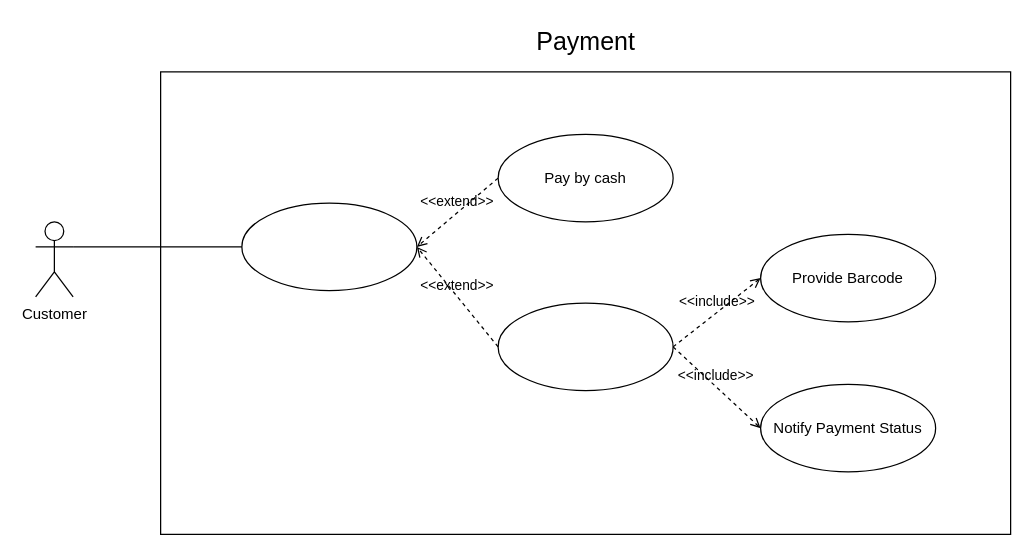
Some shapes in this 1033 by 556 pixel diagram are drawn without their labels. Each missing label, with the centre of its shape:
"Pay with MOMO" belongs at (585,346).
"Submit Payment" belongs at (329,246).
